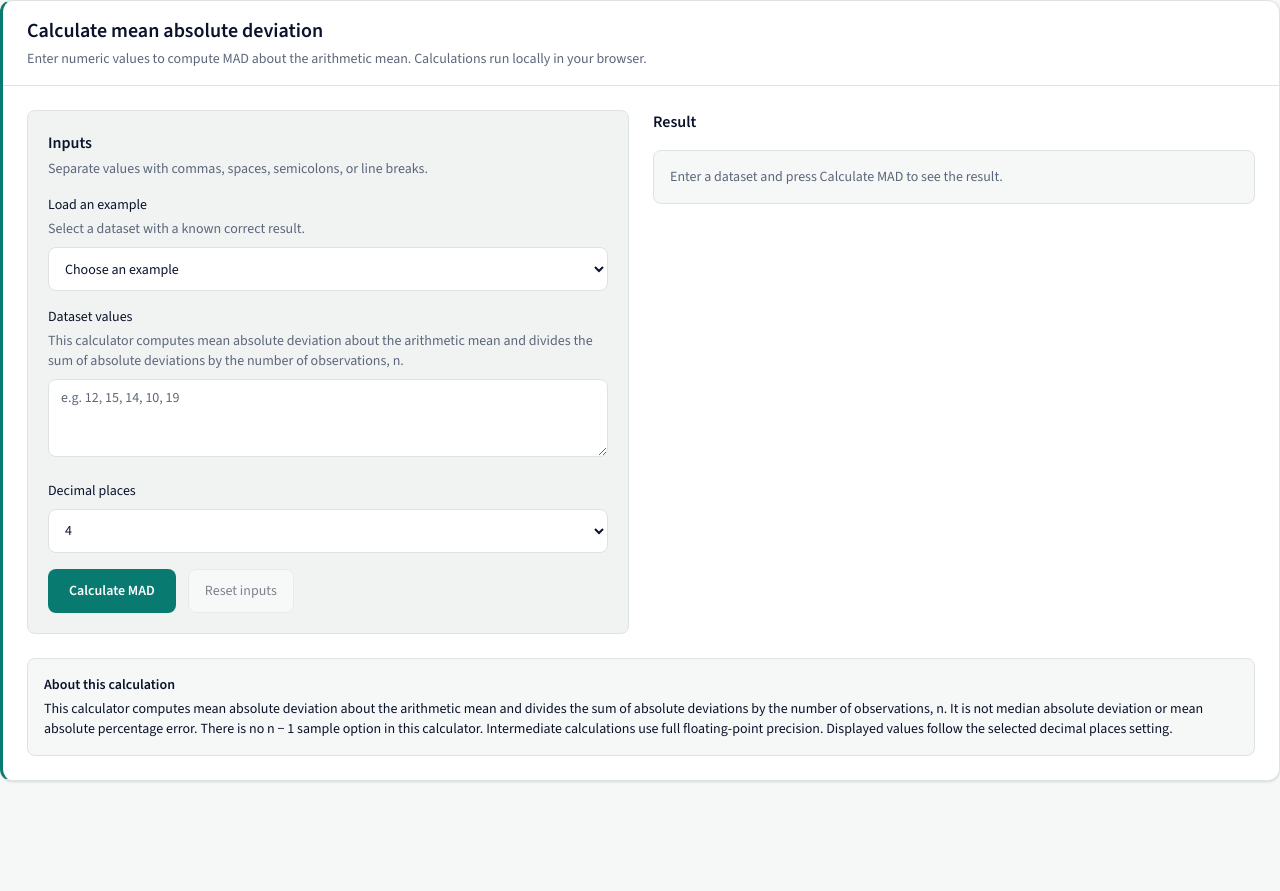
Test: MeanAbsoluteDeviationCalculator Calculate MAD workflow › calculates the reference dataset after Calculate MAD
Type "12, 15, 14, 10, 19" into the text box labelled "Dataset values". click: (328, 418)
box: [48,379,608,457]
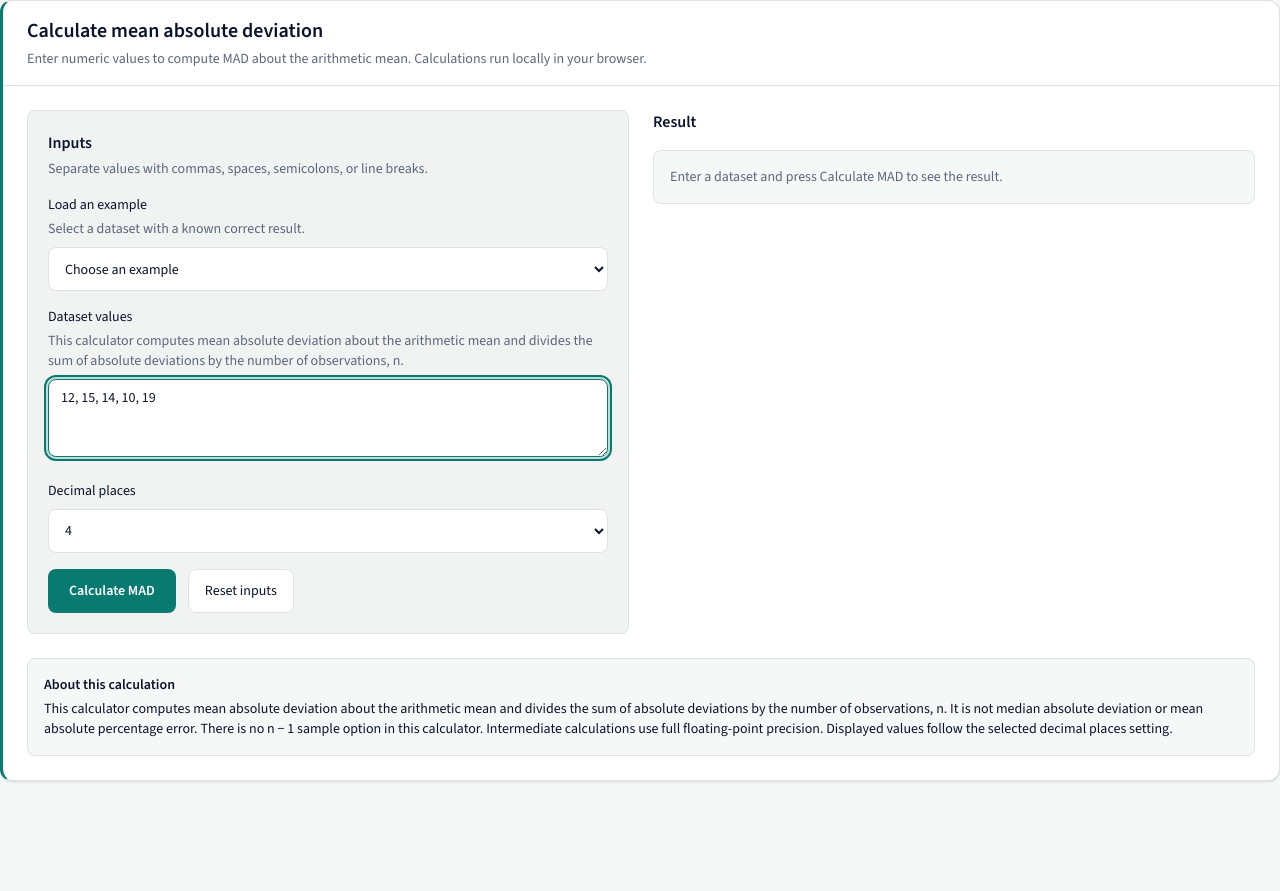
Click the button "Calculate MAD". click: (112, 591)
box: [48,569,176,613]
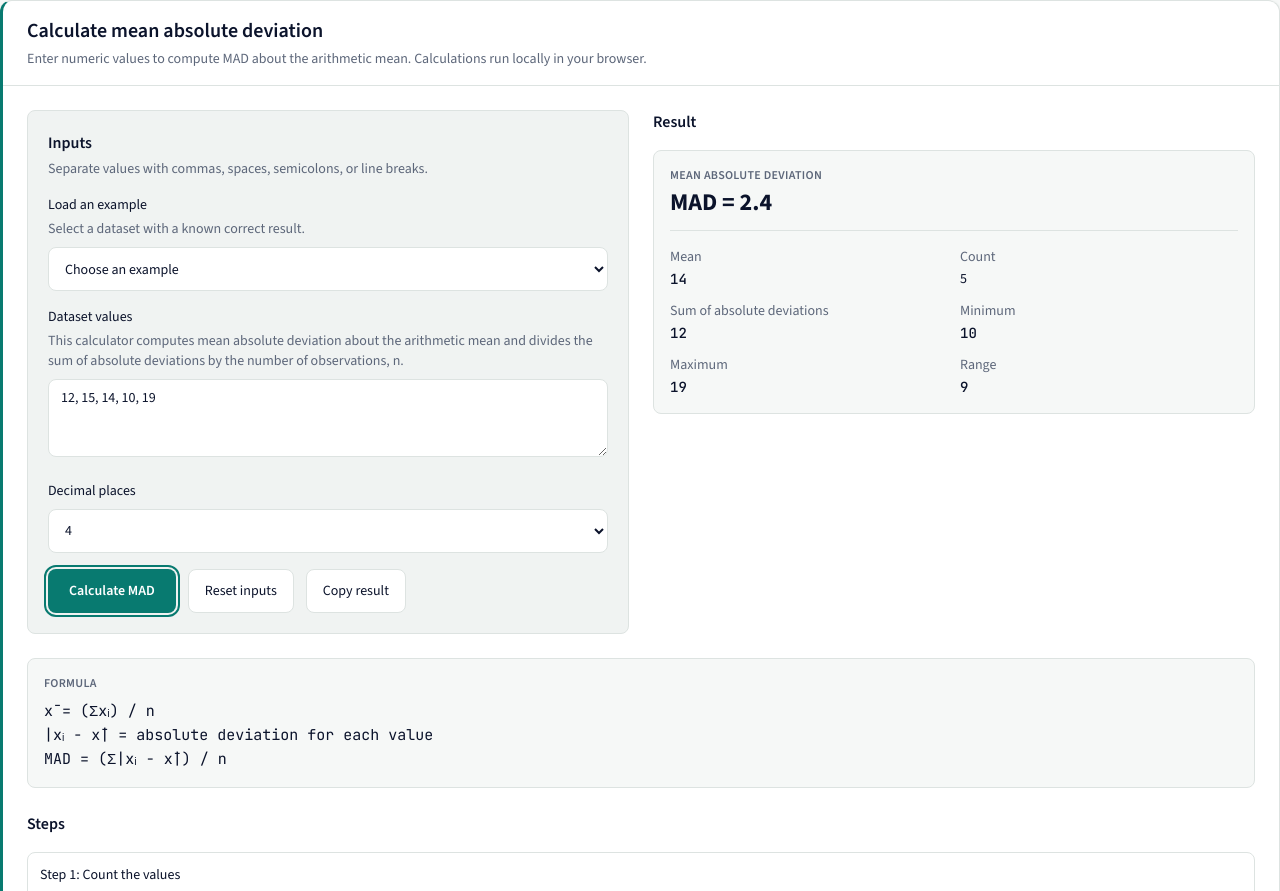
expect the text "2.4" is shown: met, box [740,186,772,218]
expect the text "14" is shown: met, box [670,270,687,288]
expect the text "12" is shown: met, box [670,324,687,342]
